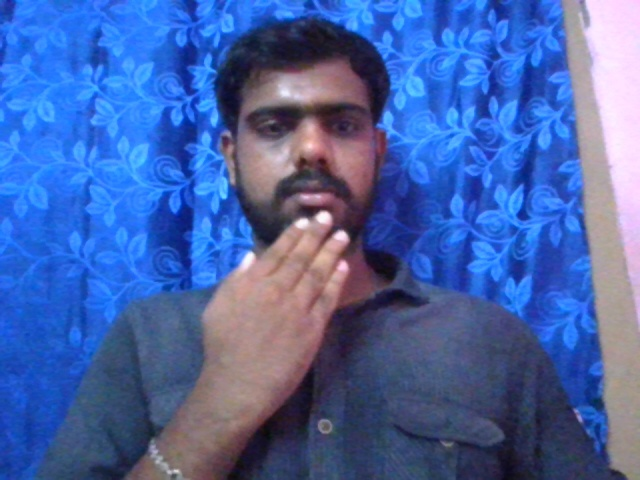Thanks: (203, 204, 349, 387)
